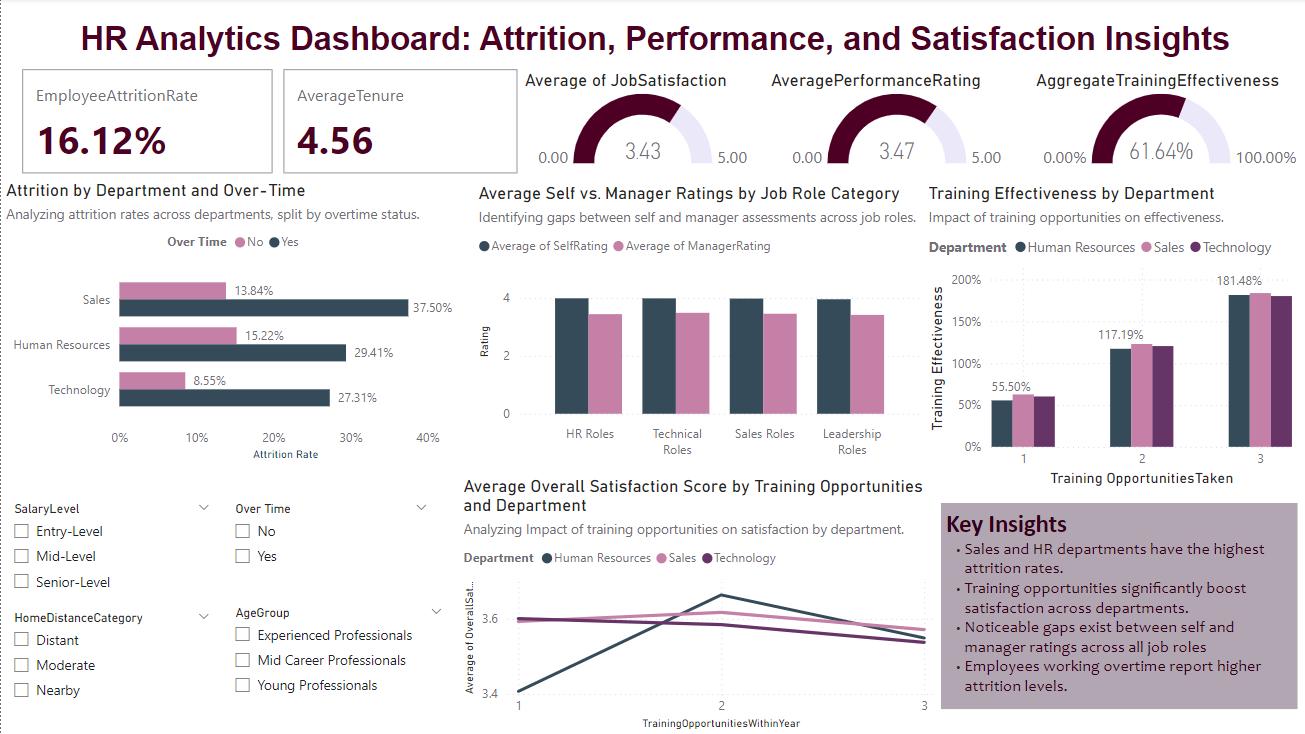

Layout of this report page (visuals, bound fields, positions):
{"tool":"powerbi","page":{"name":"Page 1","canvas":[1280,720],"ordinal":0},"visuals":[{"type":"textbox","box":[0,17.1,1280,47.7],"z":0},{"type":"cardVisual","fields":{"Data":["Employee.EmployeeAttritionRate"]},"box":[15.7,64.6,255.6,112.5],"z":1000},{"type":"gauge","fields":{"Y":["Avg(PerformanceRating.JobSatisfaction)"]},"box":[507.2,70,241.1,102.1],"z":2000},{"type":"gauge","fields":{"Y":["Employee.AveragePerformanceRating"]},"box":[748.2,70,256.3,102.1],"z":3000},{"type":"clusteredBarChart","title":"Attrition by Department and Over-Time","fields":{"Y":["Employee.EmployeeAttritionRate"],"Category":["Employee.Department"],"Series":["Employee.Over Time"]},"box":[0,177.3,458.6,280],"z":4000},{"type":"cardVisual","fields":{"Data":["Employee.AverageTenure"]},"box":[271.3,64.6,239.7,112.5],"z":5000},{"type":"gauge","fields":{"Y":["Employee.AggregateTrainingEffectiveness"]},"box":[1007.7,70,272.1,102.1],"z":6000},{"type":"slicer","fields":{"Values":["Employee.AgeGroup"]},"box":[216.4,589.4,227.4,111.3],"z":7000},{"type":"slicer","fields":{"Values":["Employee.SalaryLevel"]},"box":[0,487.9,216.4,101.5],"z":8000},{"type":"lineClusteredColumnComboChart","title":"Average Self vs. Manager Ratings by Job Role Category","fields":{"Category":["Employee.JobRoleCategory"],"Y":["Avg(PerformanceRating.SelfRating)","Avg(PerformanceRating.ManagerRating)"]},"box":[462.2,181,443.9,276.4],"z":9000},{"type":"lineChart","title":"Average Overall Satisfaction Score by Training Opportunities and Department","fields":{"Y":["Avg(PerformanceRating.OverallSatisfactionScore)"],"Category":["PerformanceRating.TrainingOpportunitiesWithinYear"],"Series":["Employee.Department"]},"box":[447.6,467.1,470.8,253.1],"z":10000},{"type":"slicer","fields":{"Values":["Employee.Over Time"]},"box":[216.4,487.9,212.8,106.4],"z":11000},{"type":"slicer","fields":{"Values":["Employee.HomeDistanceCategory"]},"box":[0,594.3,216.4,106.4],"z":12000},{"type":"clusteredColumnChart","title":"Training Effectiveness by Department","fields":{"Y":["Avg(PerformanceRating.TrainingEffectiveness)"],"Category":["PerformanceRating.Training OpportunitiesTaken"],"Series":["Employee.Department"]},"box":[902.5,181,365.6,302],"z":13000},{"type":"textbox","box":[919.6,494,348.5,201.8],"z":14000}]}

Visuals, with their boxes in screenshot pixels (x1, y1, x2, y2), scaled from the page's 1280x720 canvas onto the 1305x734 screenshot:
textbox: x1=0, y1=17, x2=1304, y2=66
cardVisual - Employee.EmployeeAttritionRate: x1=16, y1=66, x2=277, y2=181
gauge - Avg(PerformanceRating.JobSatisfaction): x1=517, y1=71, x2=763, y2=175
gauge - Employee.AveragePerformanceRating: x1=763, y1=71, x2=1024, y2=175
"Attrition by Department and Over-Time" clusteredBarChart: x1=0, y1=181, x2=468, y2=466
cardVisual - Employee.AverageTenure: x1=277, y1=66, x2=521, y2=181
gauge - Employee.AggregateTrainingEffectiveness: x1=1027, y1=71, x2=1304, y2=175
slicer - Employee.AgeGroup: x1=221, y1=601, x2=452, y2=714
slicer - Employee.SalaryLevel: x1=0, y1=497, x2=221, y2=601
"Average Self vs. Manager Ratings by Job Role Category" lineClusteredColumnComboChart: x1=471, y1=185, x2=924, y2=466
"Average Overall Satisfaction Score by Training Opportunities and Department" lineChart: x1=456, y1=476, x2=936, y2=733
slicer - Employee.Over Time: x1=221, y1=497, x2=438, y2=606
slicer - Employee.HomeDistanceCategory: x1=0, y1=606, x2=221, y2=714
"Training Effectiveness by Department" clusteredColumnChart: x1=920, y1=185, x2=1293, y2=492
textbox: x1=938, y1=504, x2=1293, y2=709
